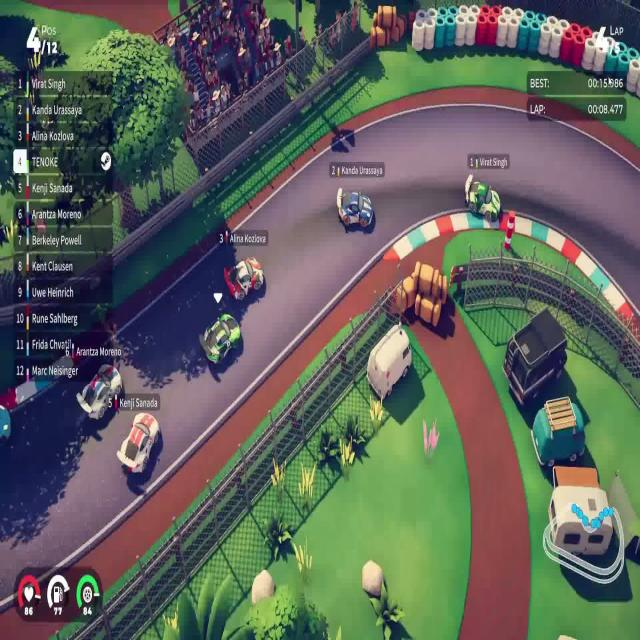car: (75, 363, 124, 422), (116, 411, 160, 476), (198, 312, 241, 366), (223, 255, 264, 302), (464, 172, 501, 222), (336, 186, 374, 230)
